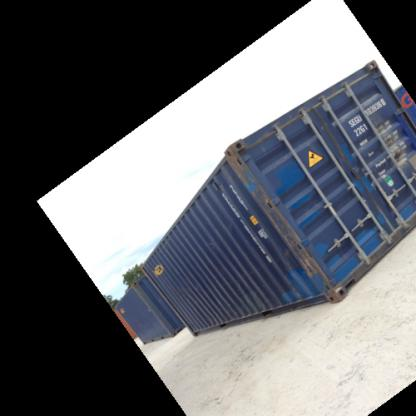Damage: (260, 194, 316, 264), (199, 275, 276, 302), (378, 119, 410, 168), (226, 148, 252, 177), (199, 236, 223, 253)
